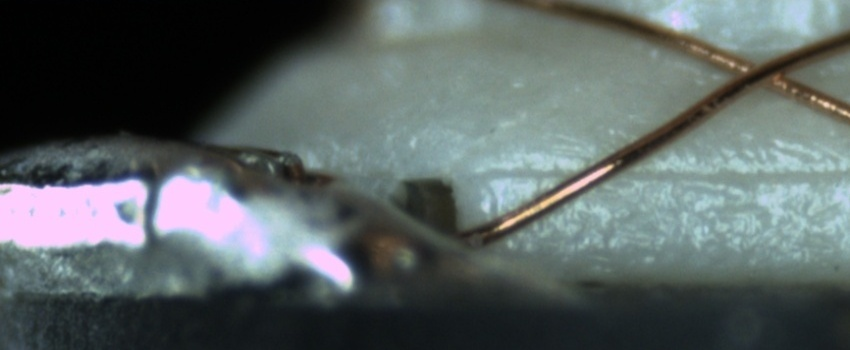CL: (712, 43, 812, 100)
DL: (480, 141, 849, 202)
